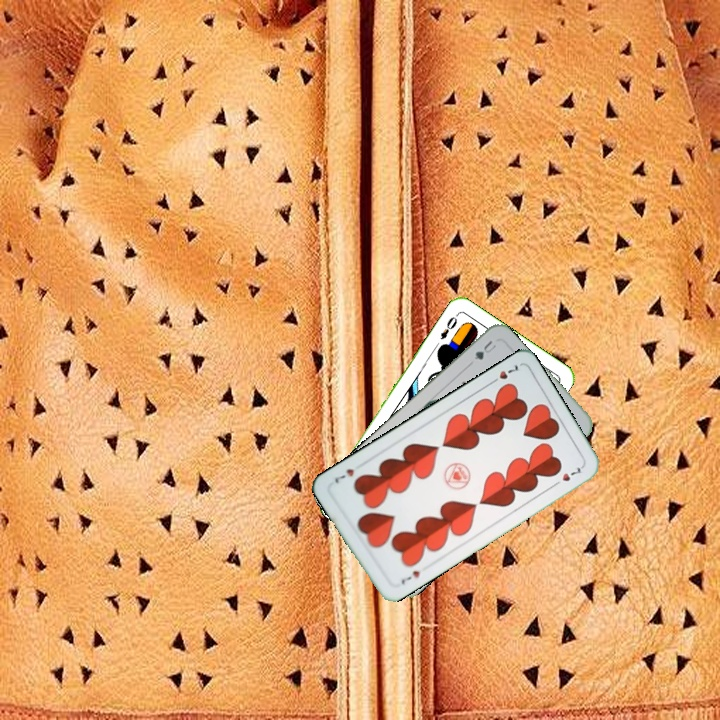EO: (436, 310, 461, 342)
GU: (470, 336, 499, 362)
H7: (485, 361, 521, 387), (397, 566, 422, 587)
